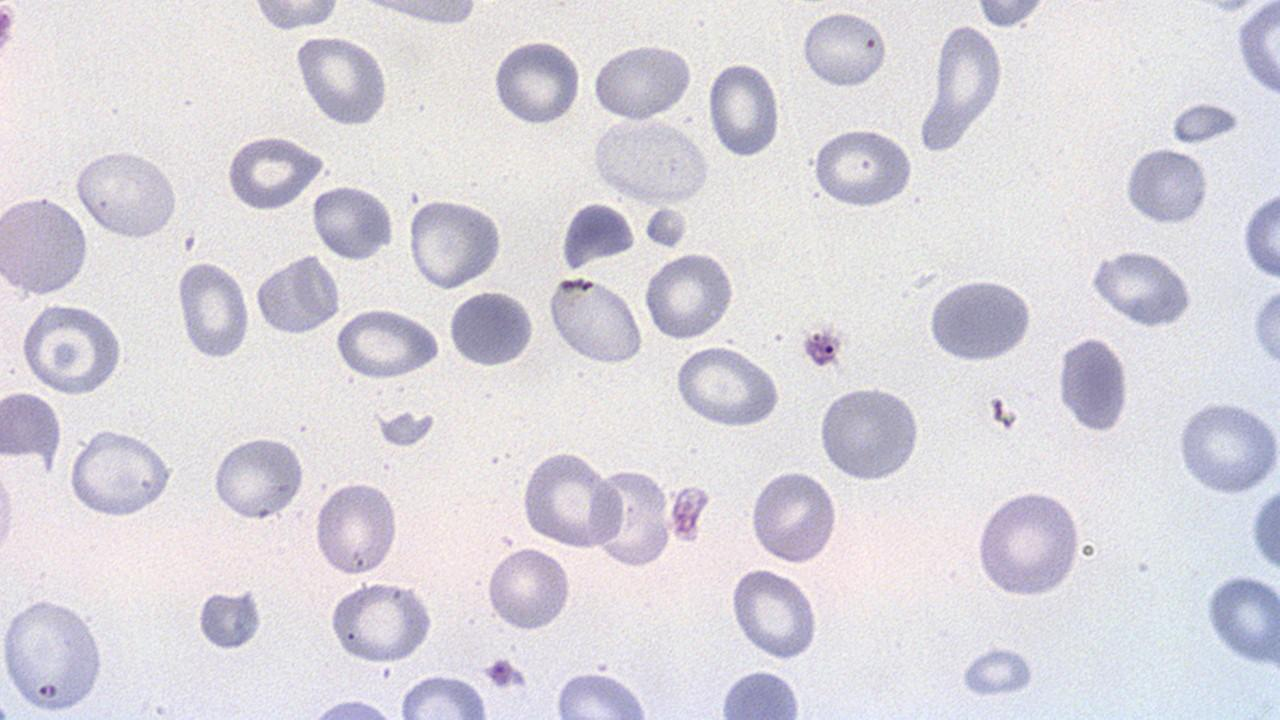Platelets: (1054, 332, 1134, 434), (1121, 144, 1213, 228), (558, 200, 638, 270), (193, 585, 266, 653), (1164, 100, 1244, 145), (376, 408, 437, 451), (668, 484, 712, 543), (640, 206, 692, 249), (800, 327, 842, 369), (478, 654, 519, 688)
RBC: (309, 273, 450, 414), (0, 594, 111, 714), (972, 485, 1085, 599), (590, 114, 712, 205), (816, 384, 926, 483), (18, 300, 127, 396), (71, 145, 181, 240), (65, 426, 176, 520), (518, 450, 622, 549), (1175, 397, 1279, 495), (325, 578, 437, 664), (0, 192, 90, 298), (290, 33, 390, 127), (544, 274, 646, 366), (672, 344, 782, 427), (406, 197, 504, 290), (1085, 247, 1197, 328), (729, 564, 820, 662), (750, 466, 838, 566), (210, 432, 307, 522), (589, 464, 672, 569), (313, 478, 400, 578), (809, 126, 915, 208), (641, 251, 736, 342), (492, 35, 583, 128), (484, 543, 574, 635), (590, 41, 694, 120), (334, 306, 443, 381), (221, 134, 324, 212), (933, 20, 1005, 131), (175, 259, 252, 360), (1122, 143, 1212, 229), (706, 58, 782, 158), (253, 254, 344, 337), (800, 7, 889, 91), (1202, 572, 1278, 668), (446, 288, 537, 368), (311, 181, 393, 263), (550, 668, 654, 718), (712, 666, 806, 718), (1234, 1, 1280, 99), (396, 673, 492, 718), (1241, 186, 1279, 282), (248, 0, 346, 31), (1252, 280, 1280, 372), (0, 444, 18, 578), (970, 1, 1049, 29)
WBC: (58, 0, 1010, 720), (768, 0, 1280, 720), (0, 592, 114, 714), (816, 384, 926, 485), (592, 116, 716, 205), (62, 428, 177, 522), (924, 274, 1036, 364), (0, 191, 91, 297), (446, 286, 537, 370), (252, 254, 342, 336), (1248, 480, 1280, 576), (1251, 280, 1279, 374)
